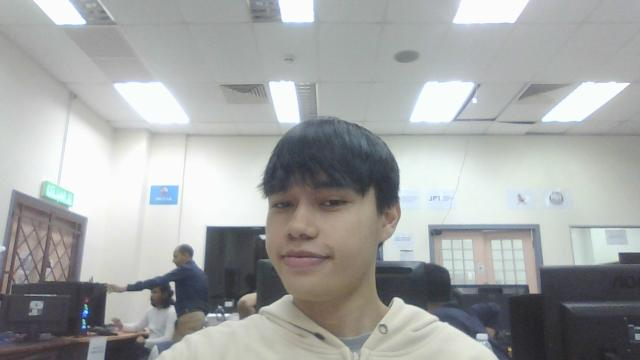senang: (239, 105, 414, 308)
